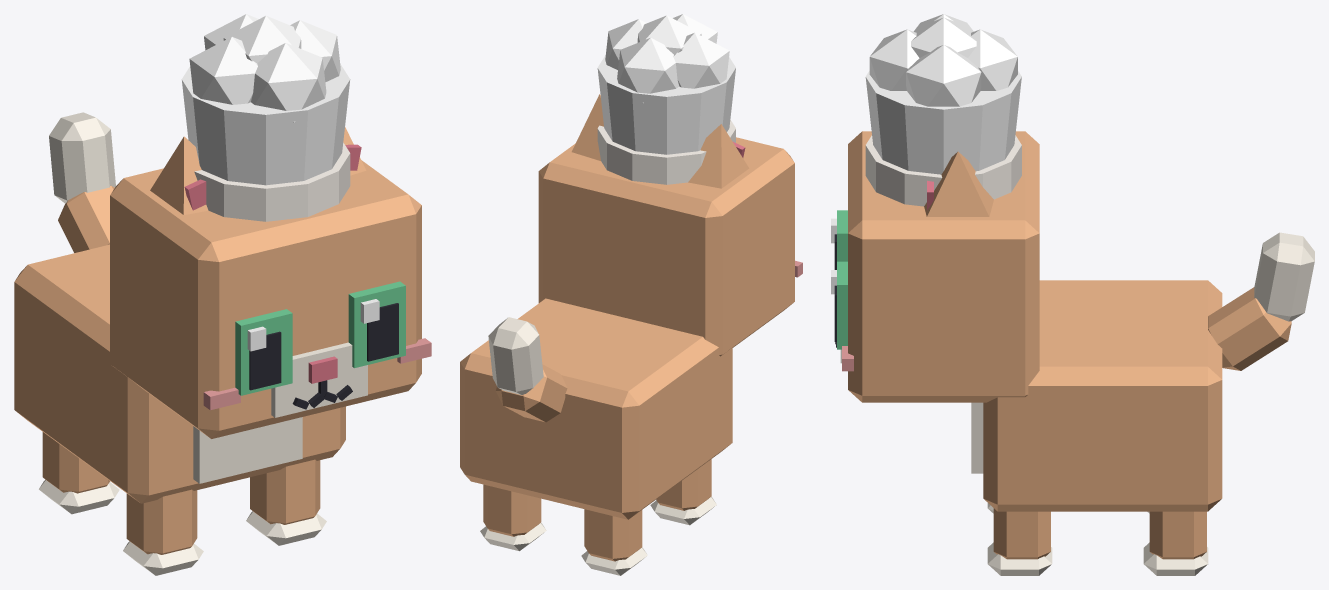
Rendered from CatCafe_Cat_Chonk.glb.
The picture shows the model from 3 angles, left to right: view 1: azimuth 30°, elevation 25°; view 2: azimuth 150°, elevation 25°; view 3: azimuth 270°, elevation 25°; orthographic projection. The views are drawn at different scales.
Parts seen in each view (by area): view 1: CatCafe_Cat_Chonk_Head, CatCafe_Cat_Chonk_Body, CatCafe_Cat_Chonk_Prop, CatCafe_Cat_Chonk_Tail, CatCafe_Cat_Chonk_LegF2, CatCafe_Cat_Chonk_LegF1, CatCafe_Cat_Chonk_Eye2, CatCafe_Cat_Chonk_Eye1, CatCafe_Cat_Chonk_LegB2, CatCafe_Cat_Chonk_EarR; view 2: CatCafe_Cat_Chonk_Body, CatCafe_Cat_Chonk_Head, CatCafe_Cat_Chonk_Prop, CatCafe_Cat_Chonk_Tail, CatCafe_Cat_Chonk_LegB2, CatCafe_Cat_Chonk_LegB1, CatCafe_Cat_Chonk_LegF2, CatCafe_Cat_Chonk_EarR, CatCafe_Cat_Chonk_EarL; view 3: CatCafe_Cat_Chonk_Body, CatCafe_Cat_Chonk_Head, CatCafe_Cat_Chonk_Prop, CatCafe_Cat_Chonk_Tail, CatCafe_Cat_Chonk_LegF1, CatCafe_Cat_Chonk_LegB1, CatCafe_Cat_Chonk_EarL, CatCafe_Cat_Chonk_Eye1, CatCafe_Cat_Chonk_Eye2.
Boxes of the visible parts, left/top/right/bottom form: CatCafe_Cat_Chonk_Head: left=110, top=160, right=431, bottom=438; CatCafe_Cat_Chonk_Body: left=14, top=244, right=345, bottom=503; CatCafe_Cat_Chonk_Prop: left=181, top=14, right=350, bottom=221; CatCafe_Cat_Chonk_Tail: left=49, top=112, right=115, bottom=252; CatCafe_Cat_Chonk_LegF2: left=123, top=489, right=203, bottom=575; CatCafe_Cat_Chonk_LegF1: left=246, top=459, right=326, bottom=545; CatCafe_Cat_Chonk_Eye2: left=235, top=309, right=292, bottom=395; CatCafe_Cat_Chonk_Eye1: left=348, top=281, right=405, bottom=368; CatCafe_Cat_Chonk_LegB2: left=39, top=432, right=119, bottom=514; CatCafe_Cat_Chonk_EarR: left=150, top=136, right=208, bottom=214; CatCafe_Cat_Chonk_Body: left=460, top=298, right=732, bottom=519; CatCafe_Cat_Chonk_Head: left=538, top=137, right=802, bottom=356; CatCafe_Cat_Chonk_Prop: left=597, top=14, right=735, bottom=184; CatCafe_Cat_Chonk_Tail: left=488, top=317, right=567, bottom=422; CatCafe_Cat_Chonk_LegB2: left=581, top=509, right=647, bottom=575; CatCafe_Cat_Chonk_LegB1: left=480, top=484, right=546, bottom=551; CatCafe_Cat_Chonk_LegF2: left=650, top=459, right=716, bottom=525; CatCafe_Cat_Chonk_EarR: left=688, top=124, right=749, bottom=188; CatCafe_Cat_Chonk_EarL: left=571, top=94, right=603, bottom=160; CatCafe_Cat_Chonk_Body: left=971, top=280, right=1222, bottom=511; CatCafe_Cat_Chonk_Head: left=835, top=131, right=1039, bottom=402; CatCafe_Cat_Chonk_Prop: left=865, top=14, right=1021, bottom=206; CatCafe_Cat_Chonk_Tail: left=1208, top=232, right=1314, bottom=370; CatCafe_Cat_Chonk_LegF1: left=987, top=508, right=1052, bottom=575; CatCafe_Cat_Chonk_LegB1: left=1143, top=511, right=1208, bottom=575; CatCafe_Cat_Chonk_EarL: left=924, top=151, right=993, bottom=216; CatCafe_Cat_Chonk_Eye1: left=831, top=261, right=847, bottom=349; CatCafe_Cat_Chonk_Eye2: left=831, top=210, right=847, bottom=269.
Size of the model in its own units: 1.25 by 3.01 by 2.52.
Materials: 1 (1 with a texture image).
